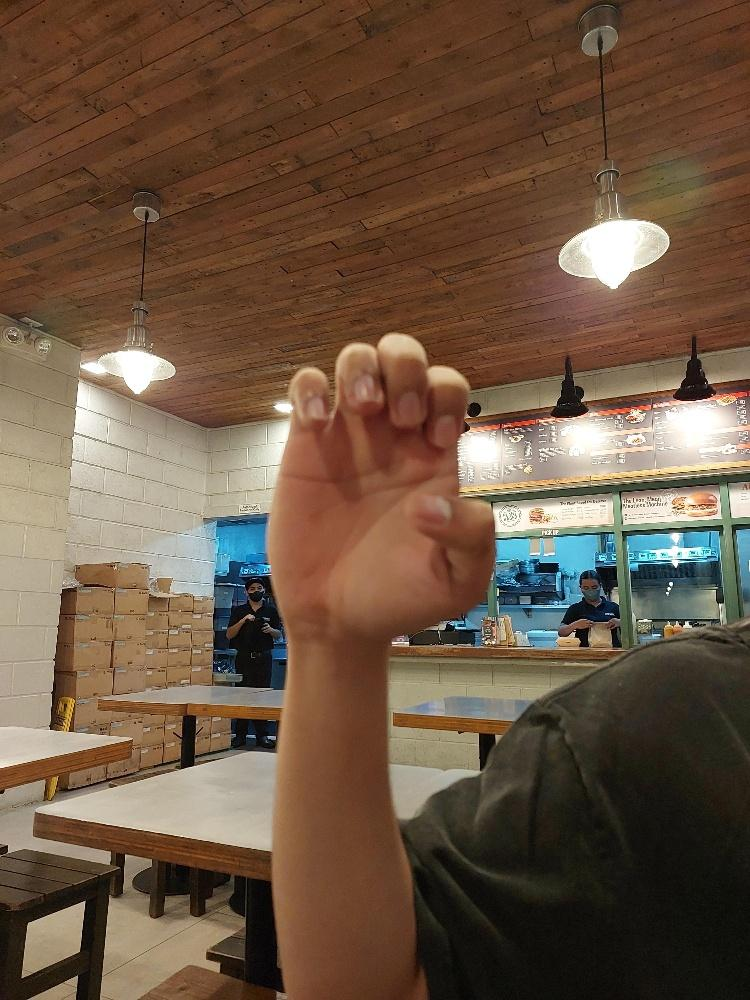e: (261, 329, 496, 649)
